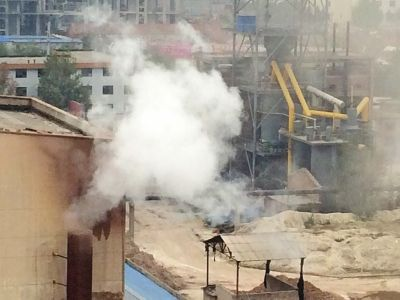dust: (60, 63, 243, 240)
